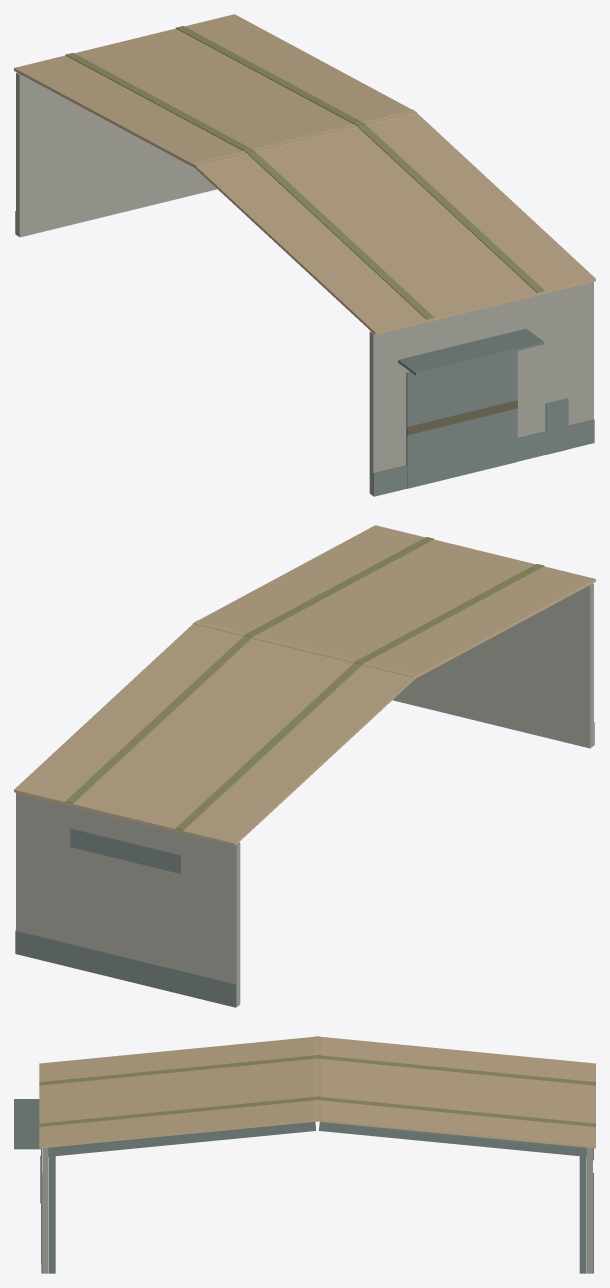
File: SM_NavePoligono_Modulo_e0_Intacta_LOD1.fbx
3 renders of one model, top to bottom at view 1: azimuth 30°, elevation 25°; view 2: azimuth 150°, elevation 25°; view 3: azimuth 270°, elevation 25°, orthographic. The views are drawn at different scales.
Parts seen in each view (by area): view 1: SM_nave_poligono_v0_LOD1; view 2: SM_nave_poligono_v0_LOD1; view 3: SM_nave_poligono_v0_LOD1.
Boxes of the visible parts, x1,y1,x2,y2 form: SM_nave_poligono_v0_LOD1: [14, 14, 595, 496]; SM_nave_poligono_v0_LOD1: [14, 525, 595, 1007]; SM_nave_poligono_v0_LOD1: [14, 1036, 595, 1273].
Size of the model in its own units: 9.98 by 8.72 by 29.6.
